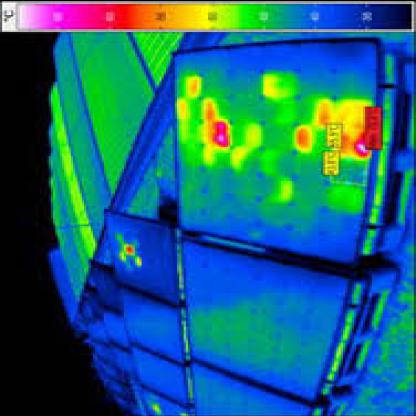Defects: (209, 122, 235, 142)
